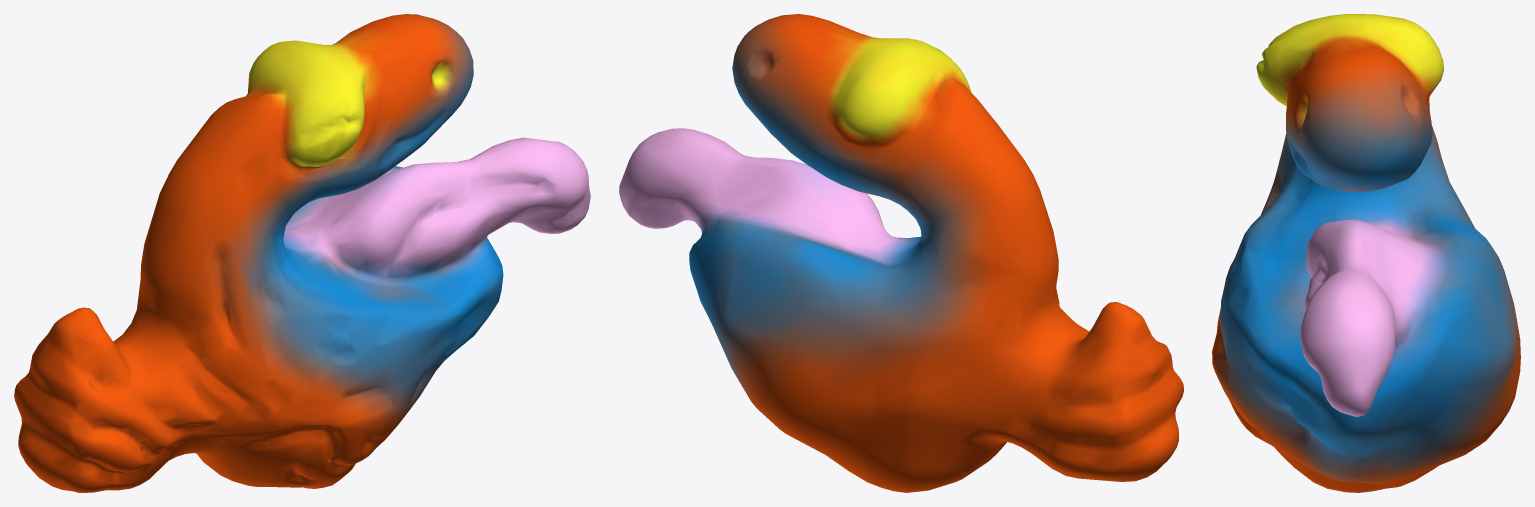
3 renders of one model, left to right at view 1: azimuth 30°, elevation 25°; view 2: azimuth 150°, elevation 25°; view 3: azimuth 270°, elevation 25°, orthographic. The views are drawn at different scales.
Parts seen in each view (by area): view 1: Group49147; view 2: Group49147; view 3: Group49147.
Boxes of the visible parts, <box> form: Group49147: <box>14,14,590,492</box>; Group49147: <box>619,14,1183,492</box>; Group49147: <box>1212,14,1520,492</box>.
Size of the model in its own units: 0.0214 by 0.016 by 0.00928.
Materials: 1 (1 with a texture image).
